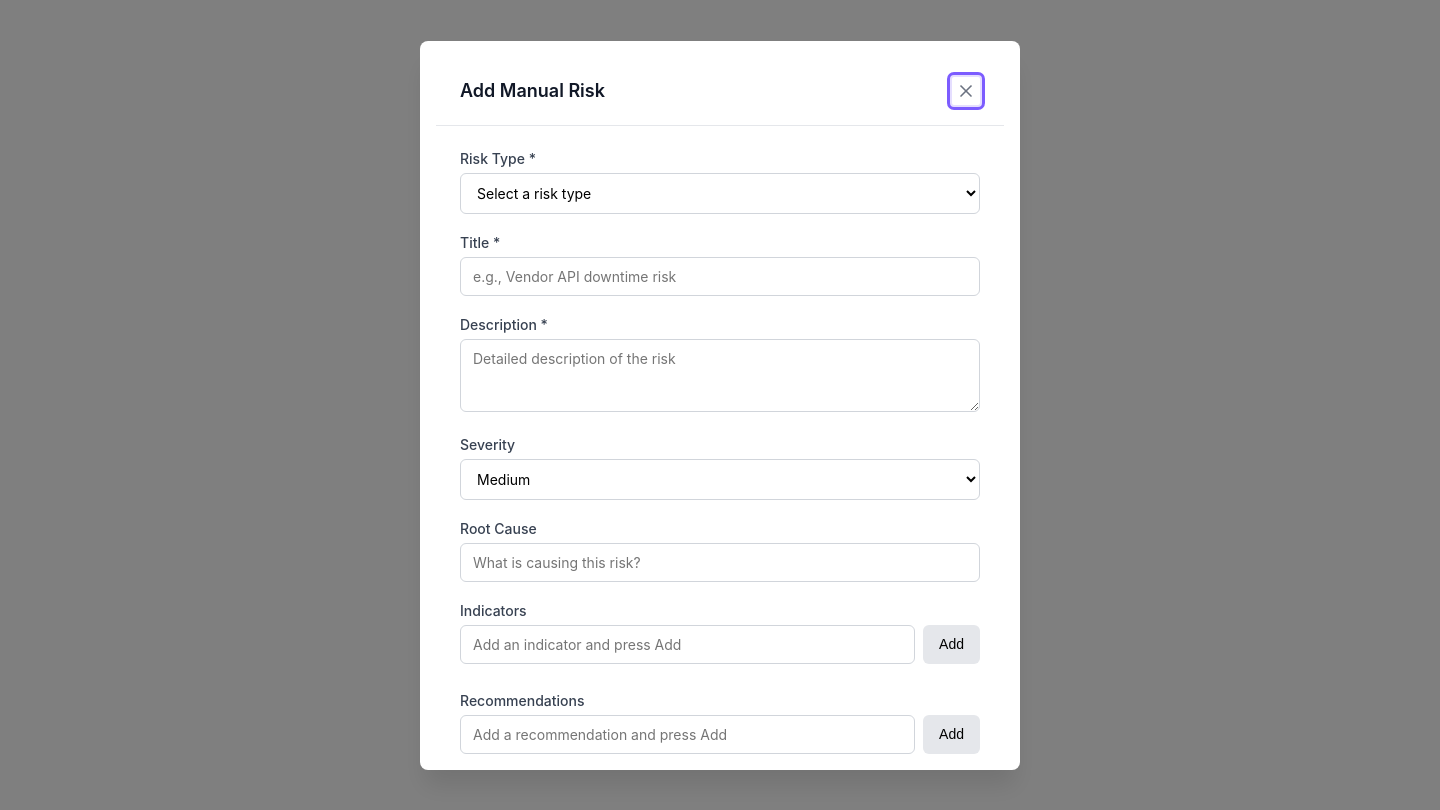
Test case: ManualRiskForm Component › Add Mode › should allow adding indicators via Enter key
Type "Test Indicator" into the field with placeholder "Add an indicator and press Add" at [688, 644], box [460,624,915,664]
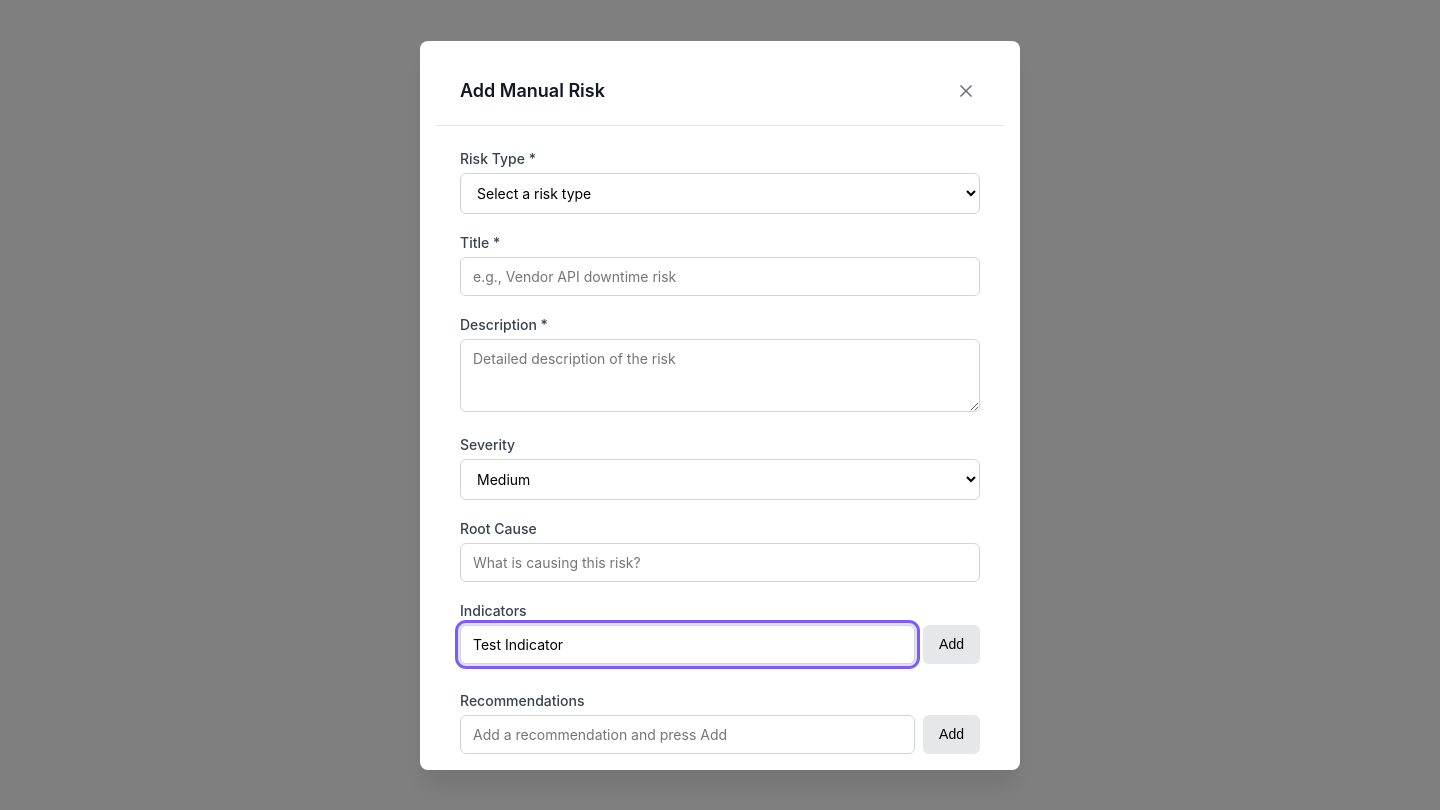
Press Enter
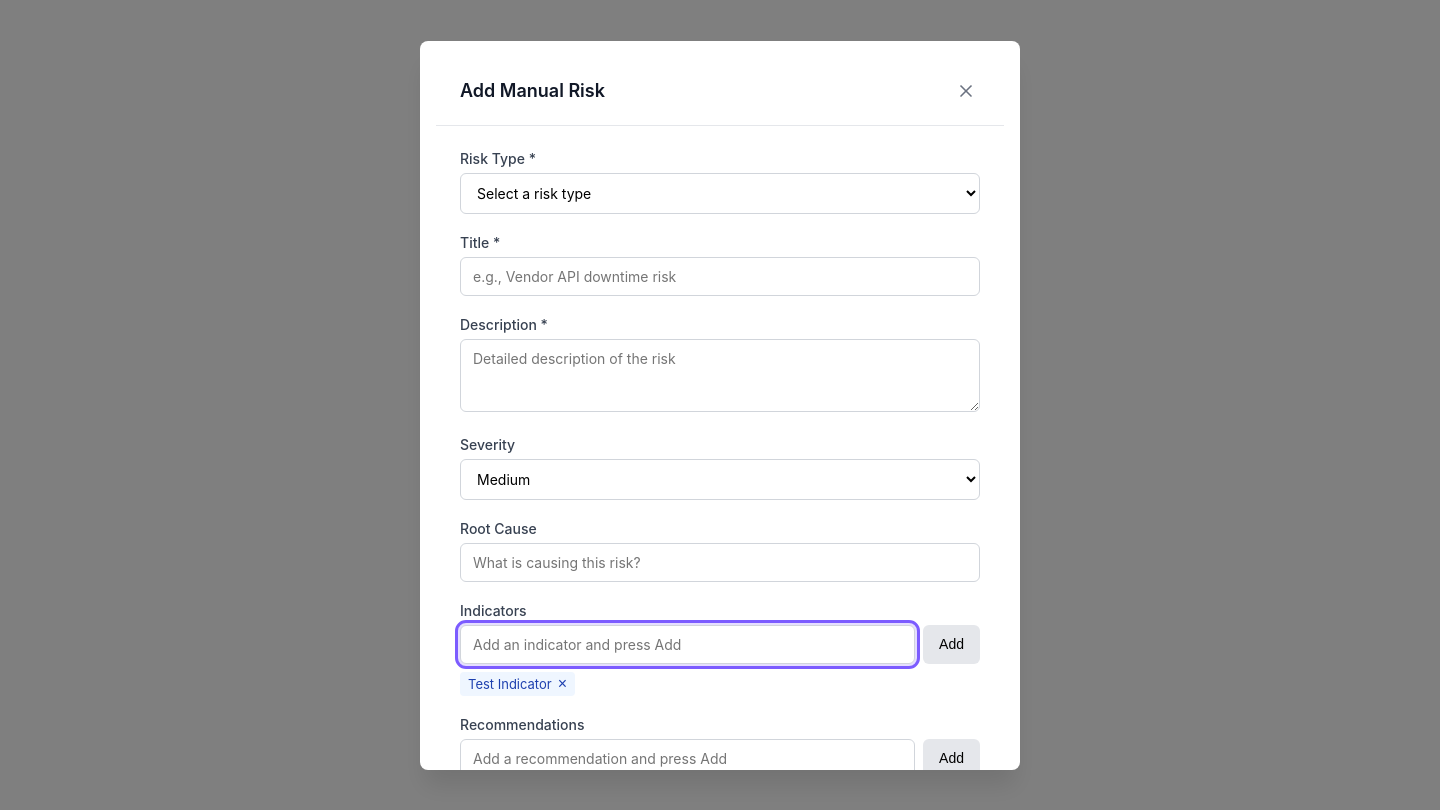
Now the text "Test Indicator" is shown, box [468,676,552,692]
